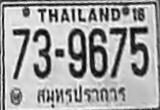3: (31, 28, 50, 77)
5: (129, 26, 148, 76)
6: (88, 27, 106, 77)
7: (109, 26, 126, 77), (12, 28, 29, 78)
9: (67, 27, 86, 77)
SPK: (33, 81, 129, 108)
